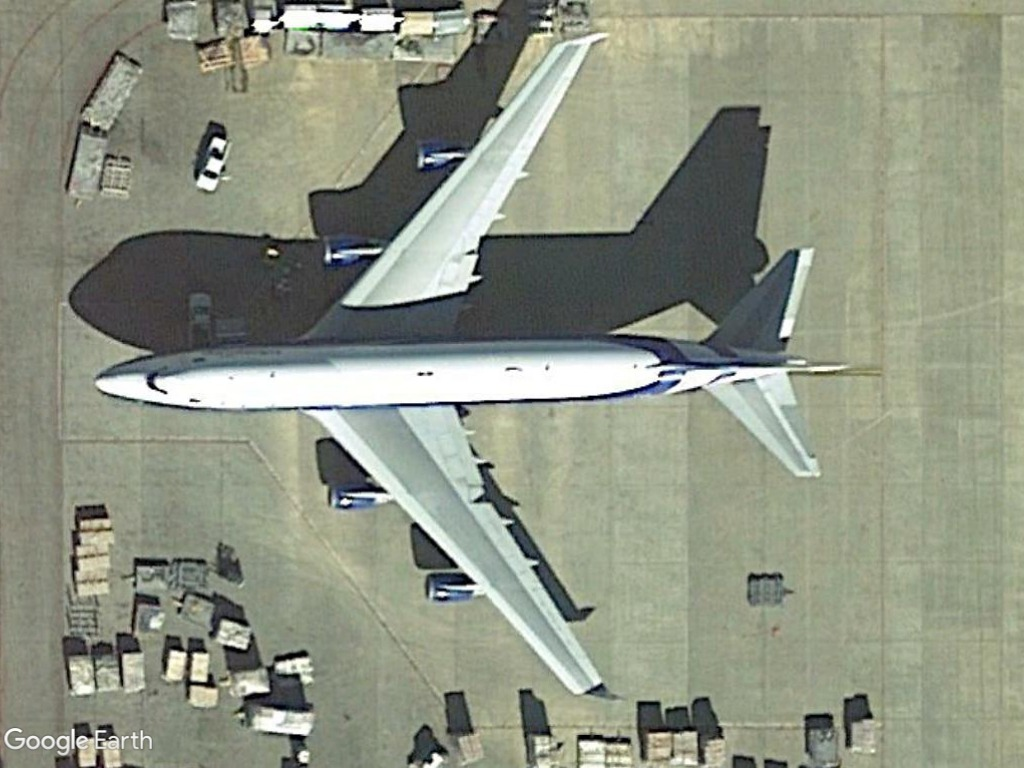airliner: (86, 33, 870, 696)
car: (191, 133, 234, 193)
